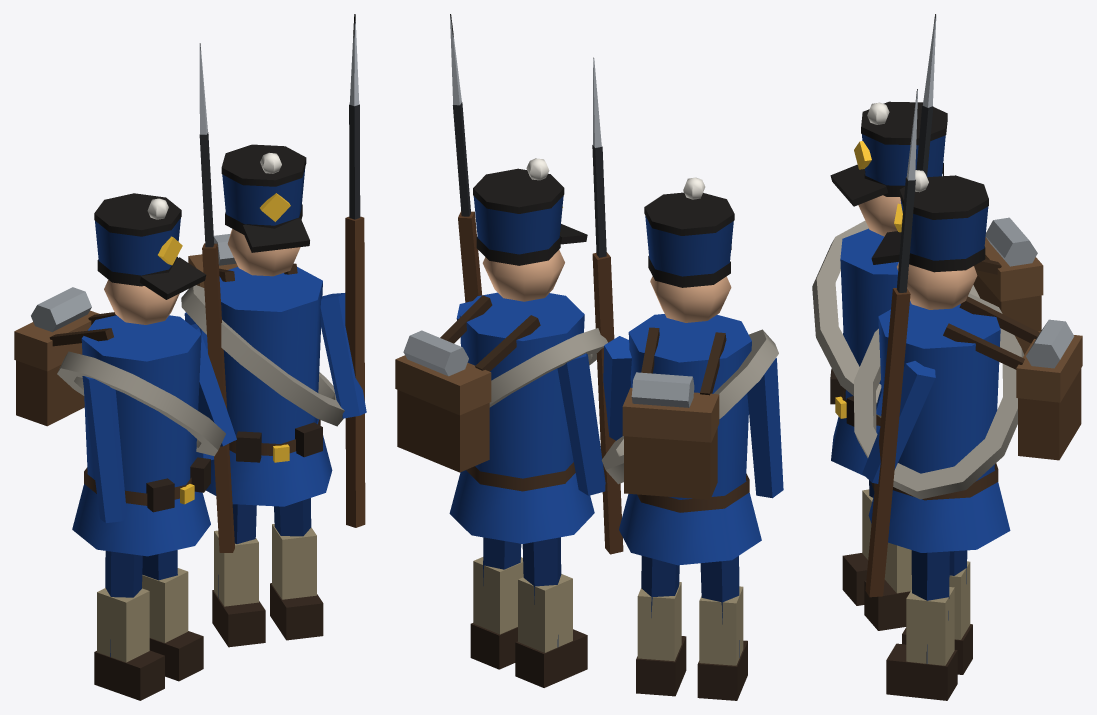
Rendered from sentry_dl5_blue.glb.
3 renders of one model, left to right at view 1: azimuth 30°, elevation 25°; view 2: azimuth 150°, elevation 25°; view 3: azimuth 270°, elevation 25°, orthographic. The views are drawn at different scales.
Parts seen in each view (by area): view 1: sentry_dl5_blue; view 2: sentry_dl5_blue; view 3: sentry_dl5_blue.
Part boxes in pixels (x1=…): sentry_dl5_blue: x1=14, y1=14, x2=366, y2=700; sentry_dl5_blue: x1=395, y1=14, x2=783, y2=700; sentry_dl5_blue: x1=812, y1=14, x2=1082, y2=700.
Bounding box in the file's own units: 0.2701 × 0.5225 × 0.2037.
Materials: 1 (1 with a texture image).
